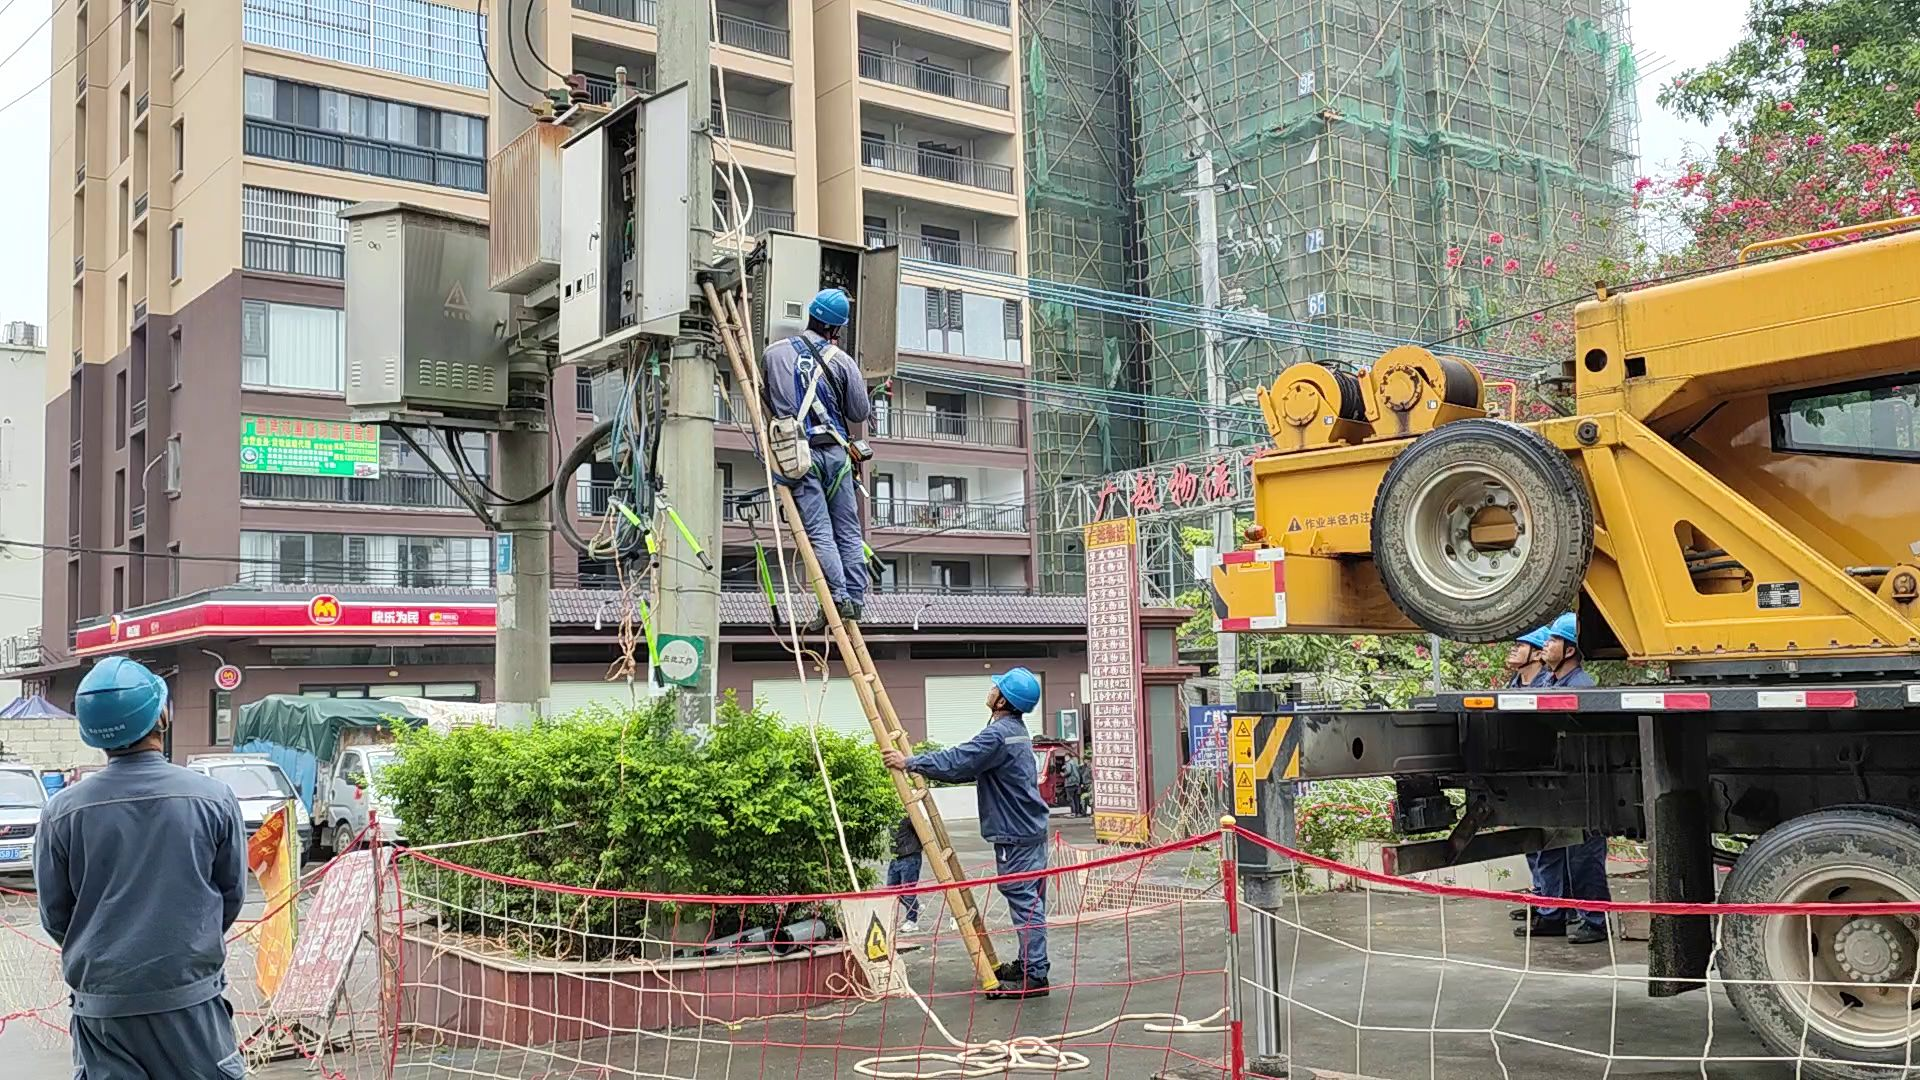downsuit: (797, 458, 874, 601), (998, 854, 1054, 976)
halt: (73, 654, 173, 753), (805, 288, 853, 337), (989, 668, 1041, 716)
hand: (879, 746, 908, 770)
inear: (990, 691, 1009, 715)
person: (28, 653, 264, 1080), (898, 665, 1063, 990), (760, 285, 885, 617)
safebelt: (755, 329, 870, 501)
support: (879, 661, 1066, 1006)
upsuit: (30, 750, 250, 1006), (909, 715, 1053, 846), (758, 329, 874, 440)
worksign: (655, 630, 708, 695)
